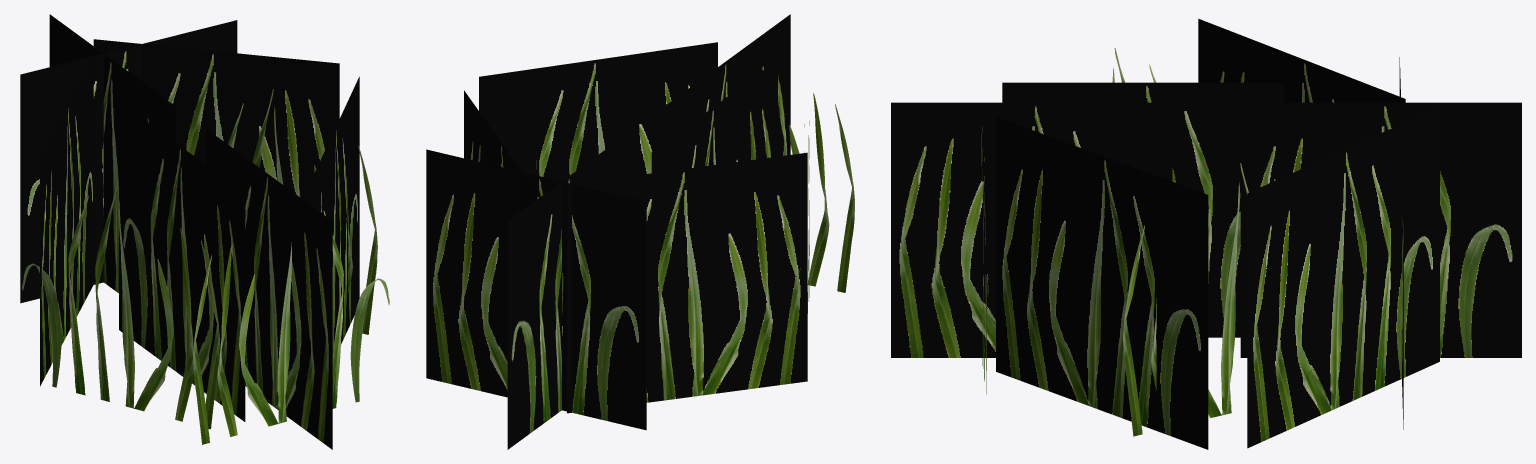
Rendered from Grass plains.fbx.
3 renders of one model, left to right at view 1: azimuth 30°, elevation 25°; view 2: azimuth 150°, elevation 25°; view 3: azimuth 270°, elevation 25°, orthographic. The views are drawn at different scales.
Visible parts, largest first — view 1: Plane.008; view 2: Plane.008; view 3: Plane.008.
Part boxes in pixels (x1,y1,x2,y2): Plane.008: (20, 14, 389, 449); Plane.008: (426, 14, 854, 449); Plane.008: (891, 18, 1521, 449).
Bounding box in the file's own units: 30.97 × 20.36 × 45.64.
10 materials, 10 textured.
